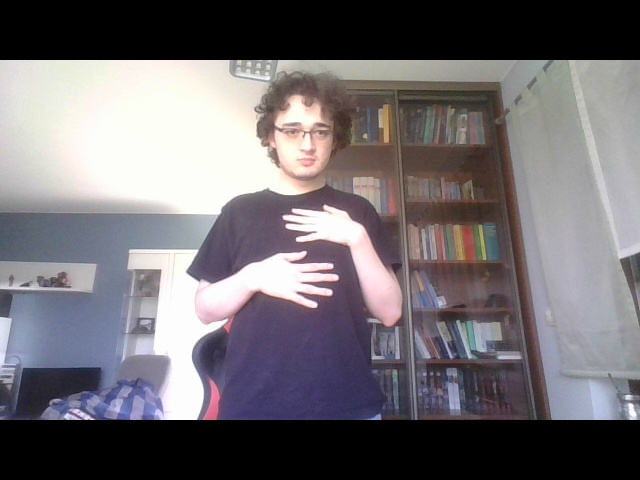hand: (248, 248, 342, 316), (275, 198, 370, 251)
